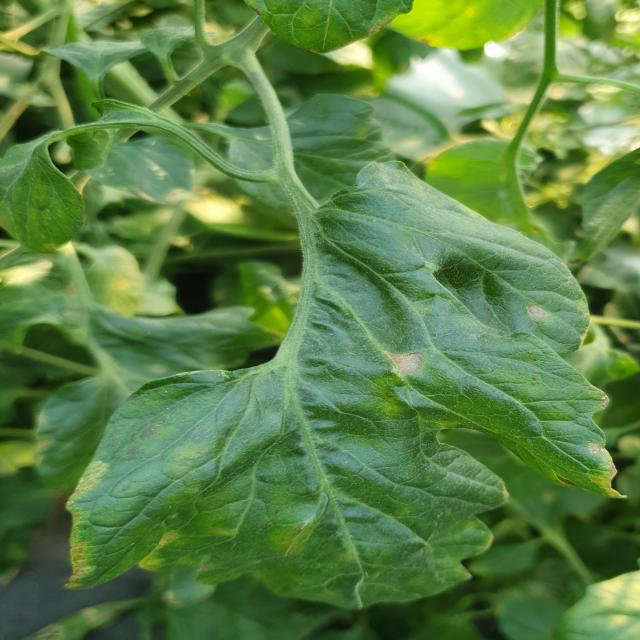Tomato mold leaf: (62, 155, 630, 610)
